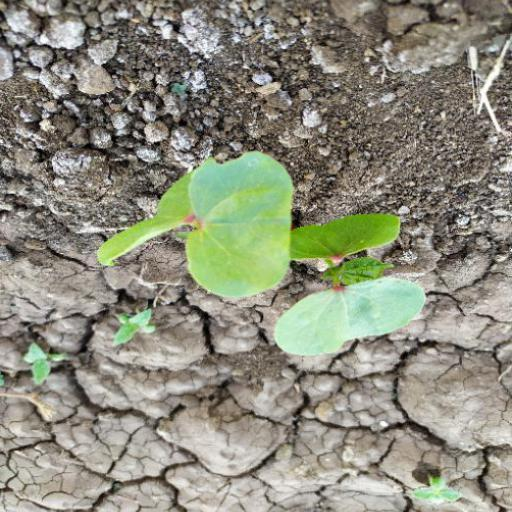weed: (94, 140, 430, 362)
